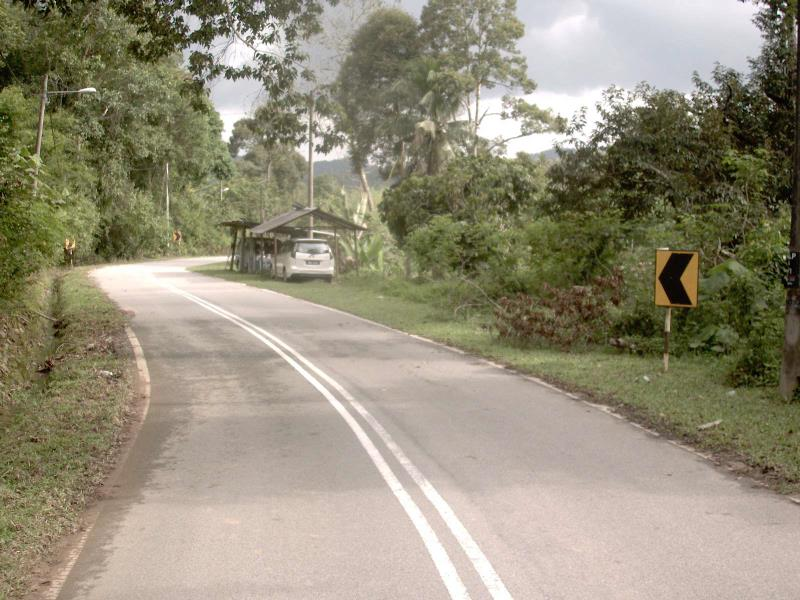traffic_sign: (644, 243, 707, 317)
